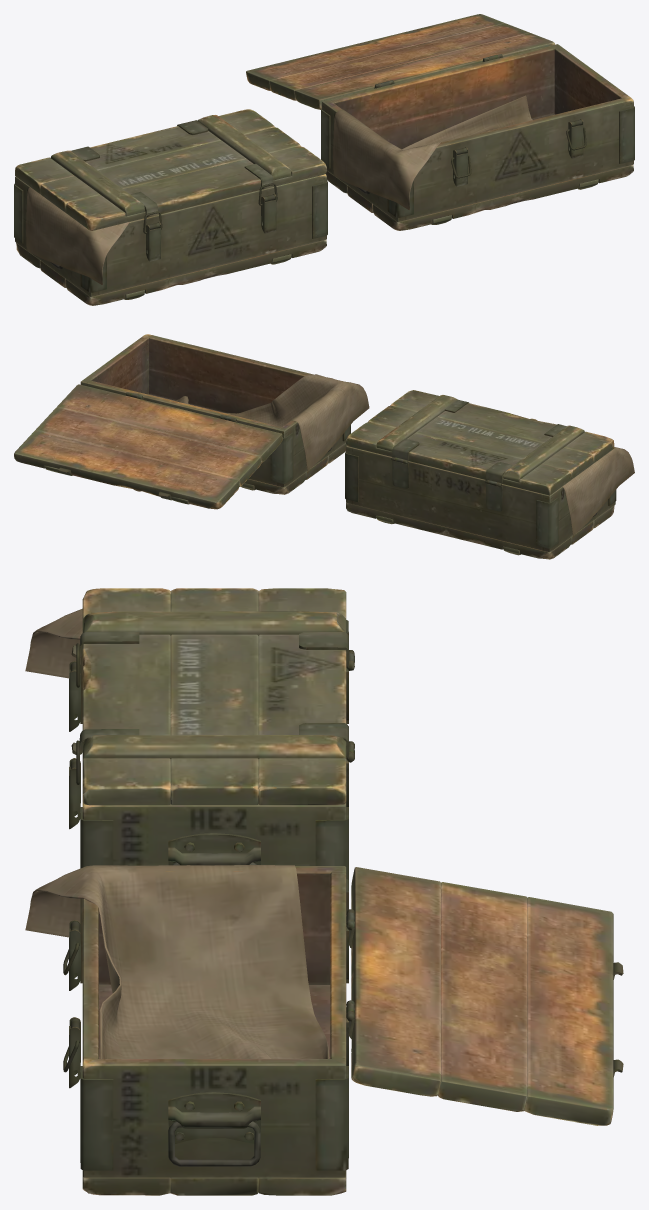
Rendered from ph_crate.glb.
The picture shows the model from 3 angles, top to bottom: view 1: azimuth 30°, elevation 25°; view 2: azimuth 150°, elevation 25°; view 3: azimuth 270°, elevation 25°; orthographic projection. The views are drawn at different scales.
Parts seen in each view (by area): view 1: old_military_crate_b, old_military_crate_lid_a, old_military_crate_a, old_military_crate_lid_b, old_military_crate_cloth_b, old_military_crate_cloth_a, old_military_crate_latch_a, old_military_crate_latch_b; view 2: old_military_crate_lid_b, old_military_crate_lid_a, old_military_crate_a, old_military_crate_b, old_military_crate_cloth_b, old_military_crate_cloth_a; view 3: old_military_crate_lid_a, old_military_crate_lid_b, old_military_crate_b, old_military_crate_cloth_b, old_military_crate_a, old_military_crate_cloth_a, old_military_crate_latch_b, old_military_crate_latch_a.
Part boxes in pixels (x1,y1,x2,y2): old_military_crate_b: (321, 44, 634, 230); old_military_crate_lid_a: (15, 109, 326, 230); old_military_crate_a: (14, 174, 327, 305); old_military_crate_lid_b: (246, 14, 554, 109); old_military_crate_cloth_b: (333, 95, 532, 209); old_military_crate_cloth_a: (26, 187, 129, 284); old_military_crate_latch_a: (146, 194, 276, 261); old_military_crate_latch_b: (453, 119, 583, 186); old_military_crate_lid_b: (14, 384, 282, 509); old_military_crate_lid_a: (346, 390, 614, 495); old_military_crate_a: (345, 446, 616, 559); old_military_crate_b: (80, 334, 350, 494); old_military_crate_cloth_b: (174, 374, 369, 470); old_military_crate_cloth_a: (562, 447, 634, 535); old_military_crate_lid_a: (71, 588, 354, 805); old_military_crate_lid_b: (346, 867, 623, 1125); old_military_crate_b: (80, 866, 354, 1195); old_military_crate_cloth_b: (25, 865, 328, 1058); old_military_crate_a: (80, 620, 354, 890); old_military_crate_cloth_a: (25, 608, 82, 678); old_military_crate_latch_b: (69, 920, 80, 1088); old_military_crate_latch_a: (69, 661, 80, 829).
Size of the model in its own units: 1.82 by 0.3009 by 0.9757.
Materials: 1 (1 with a texture image).
